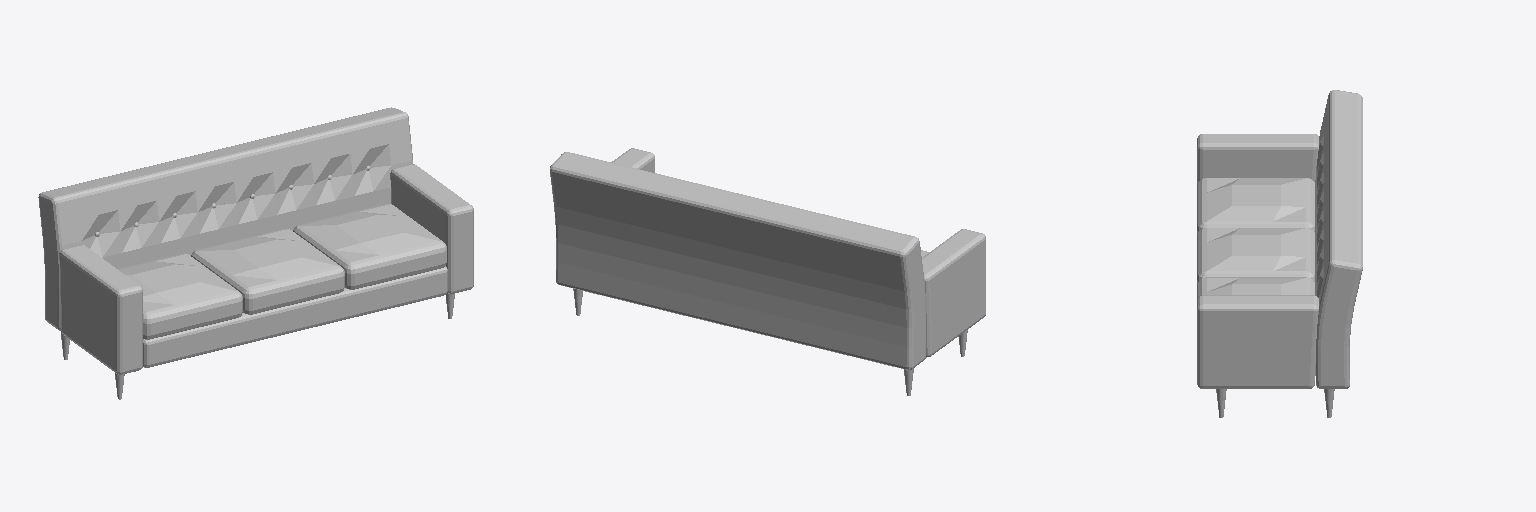
File: sofa.obj
3 renders of one model, left to right at view 1: azimuth 30°, elevation 25°; view 2: azimuth 150°, elevation 25°; view 3: azimuth 270°, elevation 25°, orthographic.
Bounding box in the file's own units: 125 × 53.86 × 49.95.